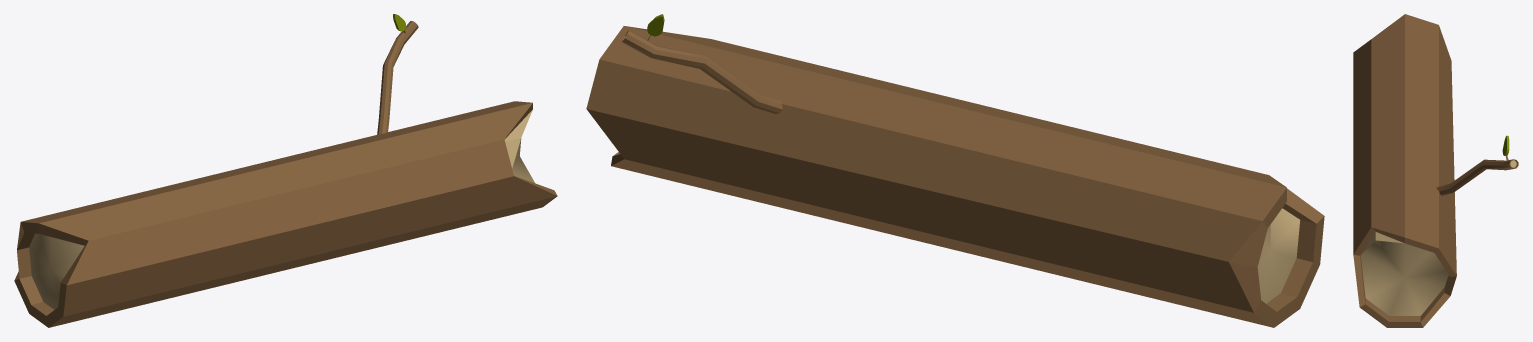
The model's file is log.fbx.
The picture shows the model from 3 angles, left to right: view 1: azimuth 30°, elevation 25°; view 2: azimuth 150°, elevation 25°; view 3: azimuth 270°, elevation 25°; orthographic projection. The views are drawn at different scales.
Visible parts, largest first — view 1: log_geo; view 2: log_geo; view 3: log_geo.
Boxes of the visible parts, box(x1,y1,x2,y2) form: log_geo: box(14, 14, 557, 327); log_geo: box(586, 14, 1324, 327); log_geo: box(1353, 14, 1518, 327).
Size of the model in its own units: 9.79 by 3.15 by 3.06.
